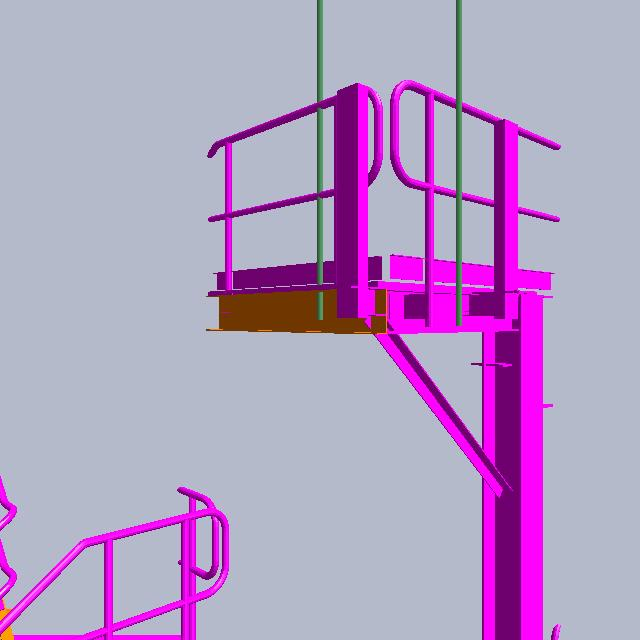Poste: (307, 1, 342, 330), (448, 1, 469, 339)
Soporte: (330, 79, 394, 326), (463, 117, 525, 322)
